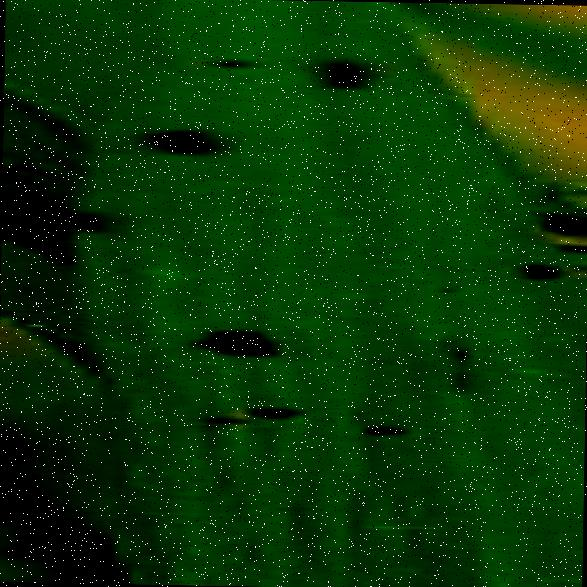Brown_Spot: (172, 309, 296, 370), (118, 112, 234, 168), (299, 40, 386, 109), (176, 41, 284, 80), (491, 244, 572, 294), (65, 196, 119, 246), (238, 394, 310, 427), (346, 414, 430, 440), (507, 444, 551, 490), (438, 360, 486, 398), (192, 407, 252, 434), (421, 270, 464, 298), (442, 339, 476, 362), (108, 257, 132, 277)
